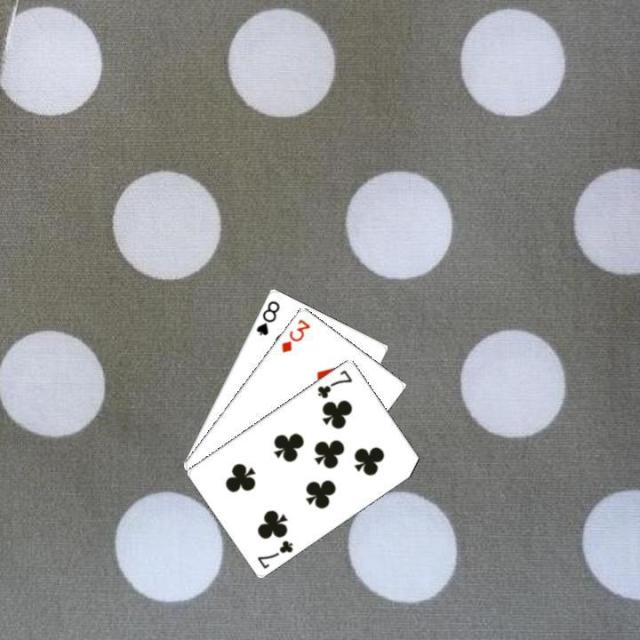3D: (277, 314, 312, 354)
7C: (253, 536, 295, 571), (313, 365, 354, 400)
8S: (252, 296, 282, 337)
